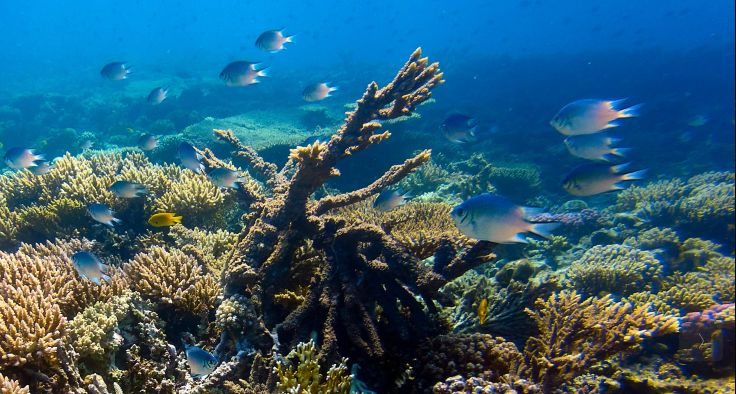fishRound: (451, 191, 562, 244), (548, 95, 645, 136), (560, 160, 650, 198), (562, 134, 633, 163), (70, 249, 113, 286), (219, 58, 272, 88), (372, 183, 416, 213), (182, 341, 219, 376), (253, 26, 298, 54), (438, 114, 479, 144), (174, 141, 205, 178), (2, 145, 47, 169), (300, 79, 340, 103), (208, 166, 246, 191), (99, 56, 135, 82), (86, 203, 123, 228), (108, 179, 148, 199), (146, 83, 172, 107), (147, 211, 182, 228), (136, 132, 164, 153), (79, 140, 95, 150)
